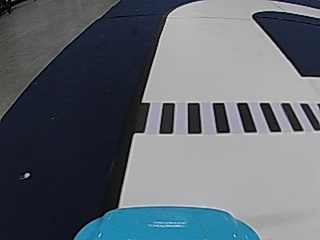CrossWalk: (134, 99, 319, 136)
